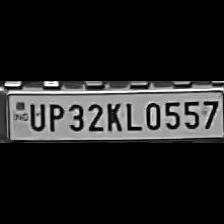0: (140, 98, 162, 130)
2: (84, 100, 104, 132)
3: (64, 99, 84, 131)
5: (162, 97, 180, 130), (182, 97, 200, 129)
7: (200, 97, 218, 129)
K: (104, 100, 124, 132)
L: (124, 98, 140, 132)
P: (44, 100, 64, 132)
U: (26, 100, 44, 132)
